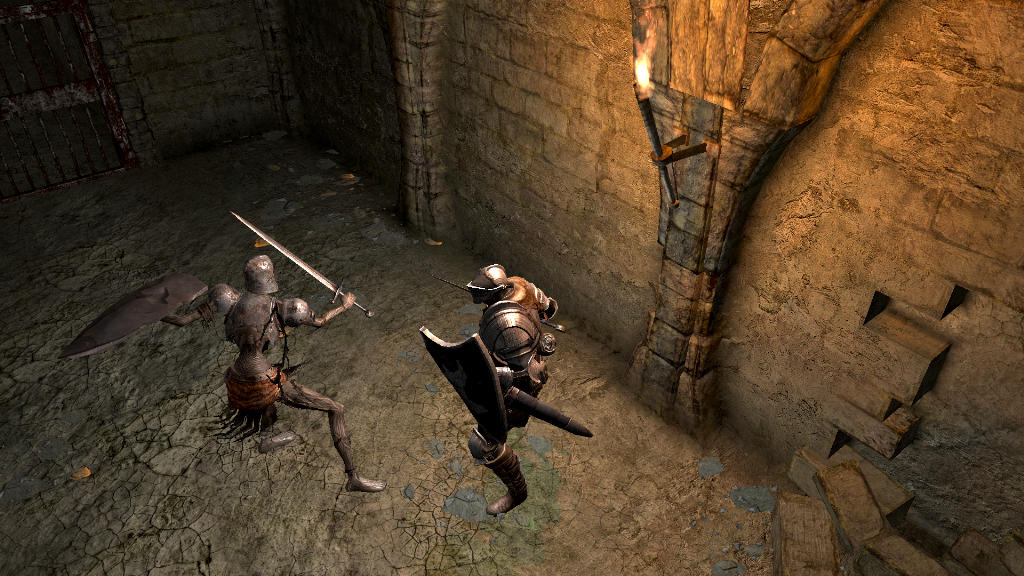player: (420, 260, 561, 519)
undeadSoldier: (158, 254, 386, 495)
